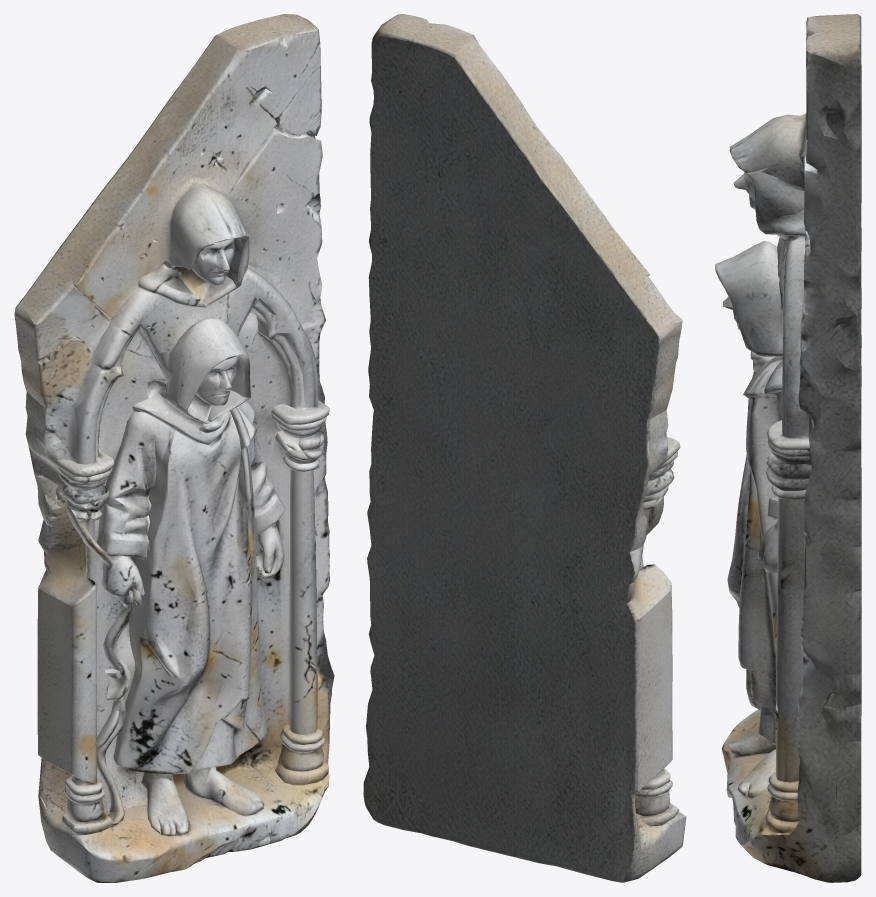
File: pilgrim-relief.glb
The picture shows the model from 3 angles, left to right: view 1: azimuth 30°, elevation 25°; view 2: azimuth 150°, elevation 25°; view 3: azimuth 270°, elevation 25°; orthographic projection. The views are drawn at different scales.
Visible parts, largest first — view 1: model; view 2: model; view 3: model.
Part boxes in pixels (box(x1,y1,x2,y2)): model: box(14, 14, 334, 882); model: box(363, 14, 686, 882); model: box(715, 14, 861, 882).
Bounding box in the file's own units: 0.7562 × 1.89 × 0.302.
Materials: 1 (1 with a texture image).
